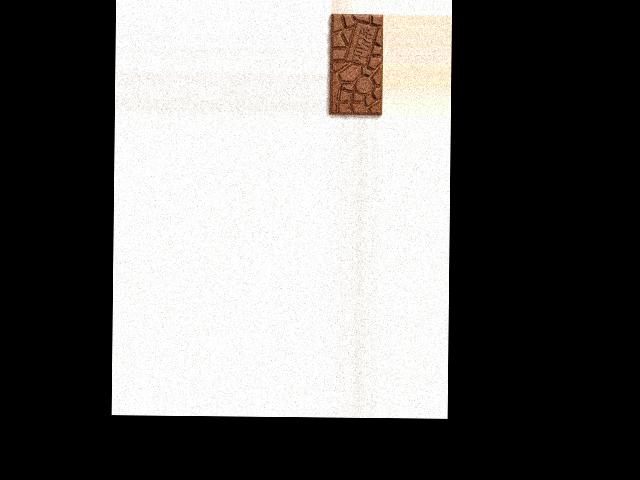chocolate: (326, 12, 382, 116)
